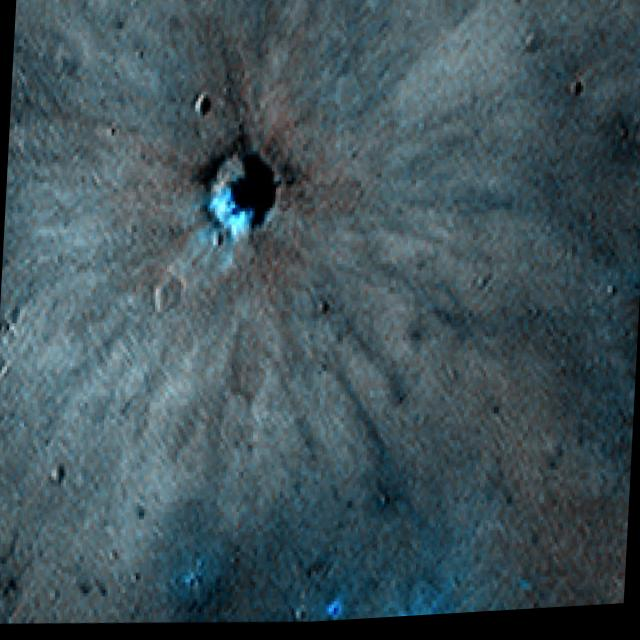Crater: (200, 144, 278, 255)
